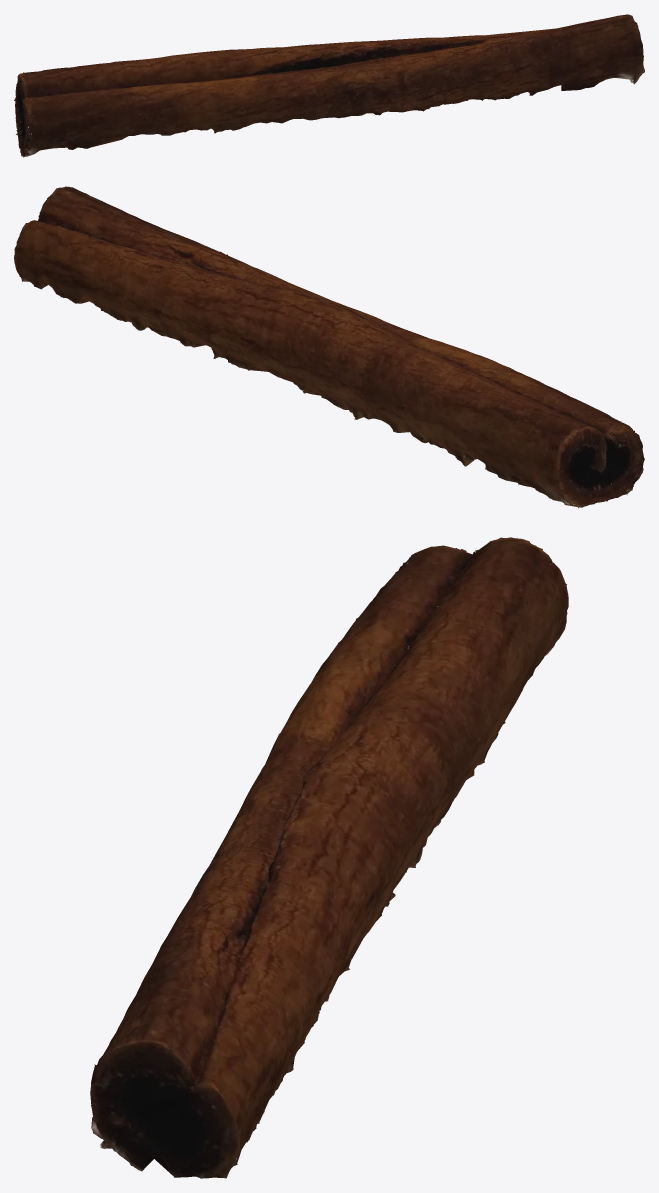
Rendered from cinnamon.glb.
3 views of the same model, one above another, from view 1: azimuth 30°, elevation 25°; view 2: azimuth 150°, elevation 25°; view 3: azimuth 270°, elevation 25° (orthographic). The views are drawn at different scales.
Visible parts, largest first — view 1: model_tex_u1_v1_0; view 2: model_tex_u1_v1_0; view 3: model_tex_u1_v1_0.
Boxes of the visible parts, x1,y1,x2,y2 form: model_tex_u1_v1_0: [14, 14, 644, 157]; model_tex_u1_v1_0: [14, 186, 644, 508]; model_tex_u1_v1_0: [90, 537, 568, 1178].
Bounding box in the file's own units: 0.09 × 0.0102 × 0.0337.
Materials: 1 (1 with a texture image).
